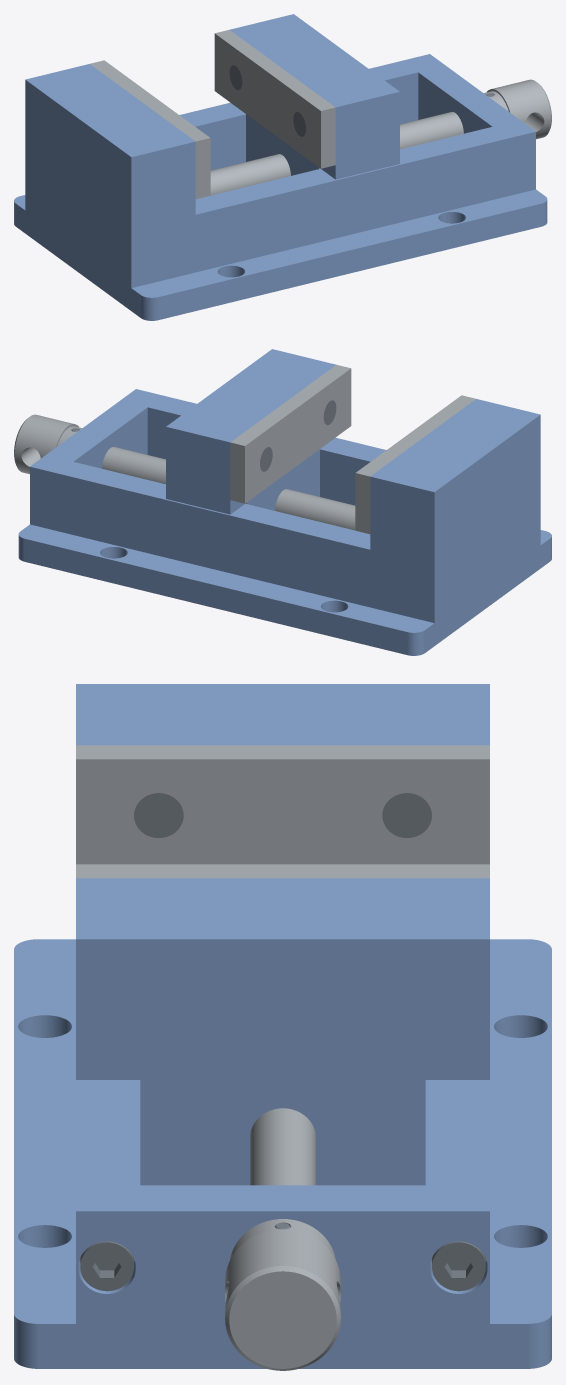
The model's file is step_25.glb.
The picture shows the model from 3 angles, top to bottom: view 1: azimuth 30°, elevation 25°; view 2: azimuth 150°, elevation 25°; view 3: azimuth 270°, elevation 25°; orthographic projection. The views are drawn at different scales.
Parts seen in each view (by area): view 1: part__body, part__moving jaw, part__moving jaw plate, part__end block, part__lead screw, part__fixed jaw plate; view 2: part__body, part__moving jaw, part__moving jaw plate, part__end block, part__lead screw, part__fixed jaw plate; view 3: part__moving jaw, part__body, part__fixed jaw plate, part__end block, part__lead screw, part__moving jaw plate, part__cap screw M8 x 30 1, part__cap screw M8 x 30 2, part__jaw plate screw 1, part__jaw plate screw 2, part__thrust collar.
Part boxes in pixels (bbox=[...]): part__body: bbox=[14, 60, 547, 320]; part__moving jaw: bbox=[230, 14, 399, 179]; part__moving jaw plate: bbox=[214, 29, 335, 168]; part__end block: bbox=[403, 54, 535, 195]; part__lead screw: bbox=[210, 79, 551, 195]; part__fixed jaw plate: bbox=[90, 60, 210, 199]; part__body: bbox=[18, 395, 551, 655]; part__moving jaw: bbox=[166, 349, 335, 514]; part__moving jaw plate: bbox=[230, 364, 351, 503]; part__end block: bbox=[30, 389, 162, 530]; part__lead screw: bbox=[14, 414, 355, 530]; part__fixed jaw plate: bbox=[355, 395, 475, 534]; part__moving jaw: bbox=[76, 878, 489, 1185]; part__body: bbox=[14, 684, 551, 1368]; part__fixed jaw plate: bbox=[76, 745, 489, 864]; part__end block: bbox=[76, 1185, 489, 1323]; part__lead screw: bbox=[225, 1108, 340, 1370]; part__moving jaw plate: bbox=[76, 864, 489, 878]; part__cap screw M8 x 30 1: bbox=[432, 1241, 485, 1291]; part__cap screw M8 x 30 2: bbox=[80, 1241, 133, 1291]; part__jaw plate screw 1: bbox=[382, 793, 431, 837]; part__jaw plate screw 2: bbox=[134, 793, 183, 837]; part__thrust collar: bbox=[230, 1219, 335, 1259].
Size of the model in its own units: 250 by 80 by 130.
